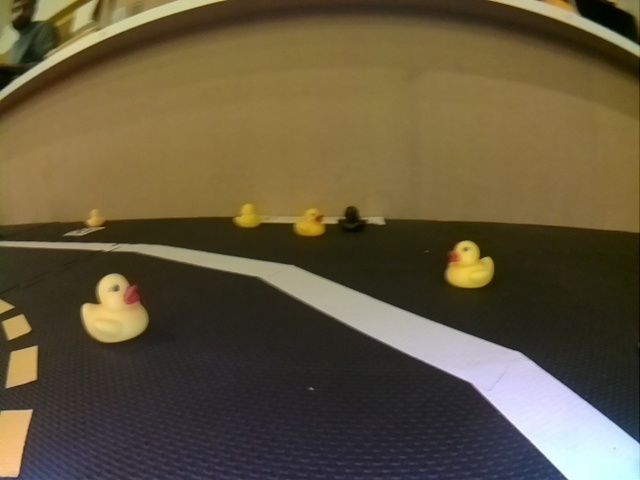Duckie: (80, 275, 148, 343), (445, 242, 494, 288), (294, 209, 325, 235), (235, 204, 260, 224), (87, 210, 104, 225)
QR code: (65, 227, 102, 236)
